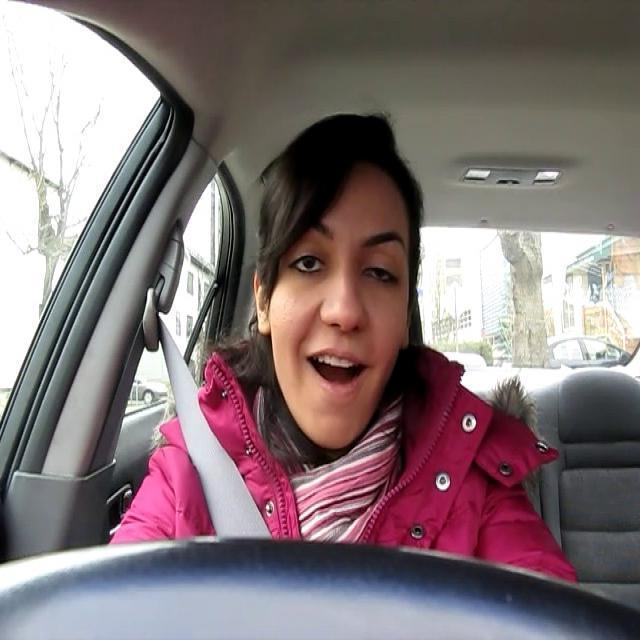open: (283, 212, 335, 291), (355, 224, 411, 294)
